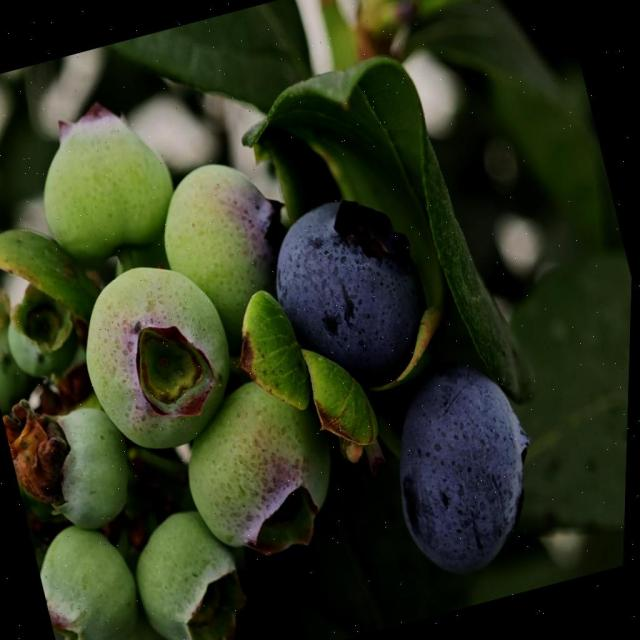RipeBlueBerry: (371, 348, 553, 575), (264, 184, 442, 390)
UnripeBlueBerry: (64, 250, 254, 466), (172, 367, 351, 564), (23, 96, 185, 266)
